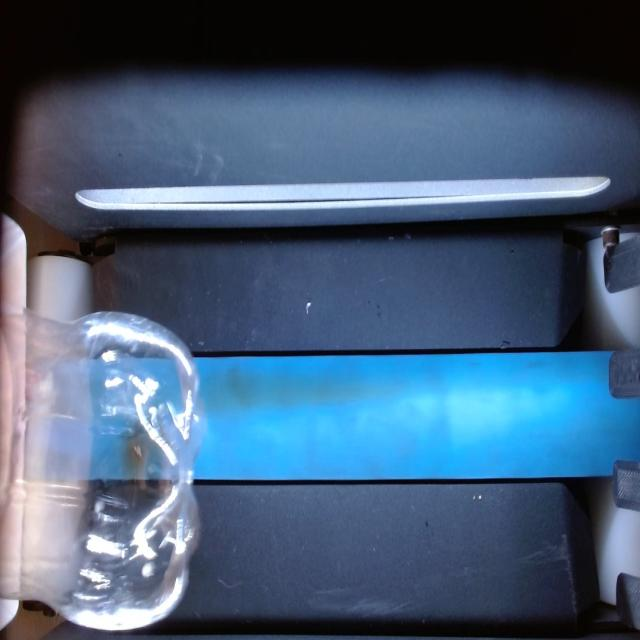bottom: (0, 311, 201, 629)
